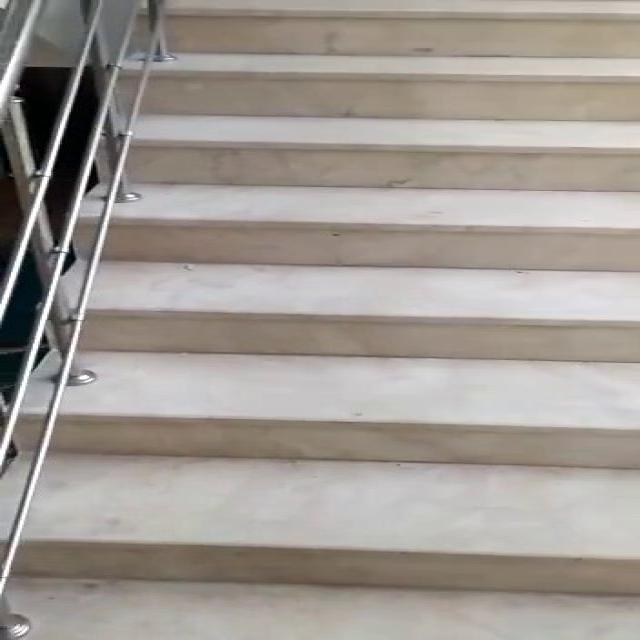stair: (35, 3, 640, 613)
